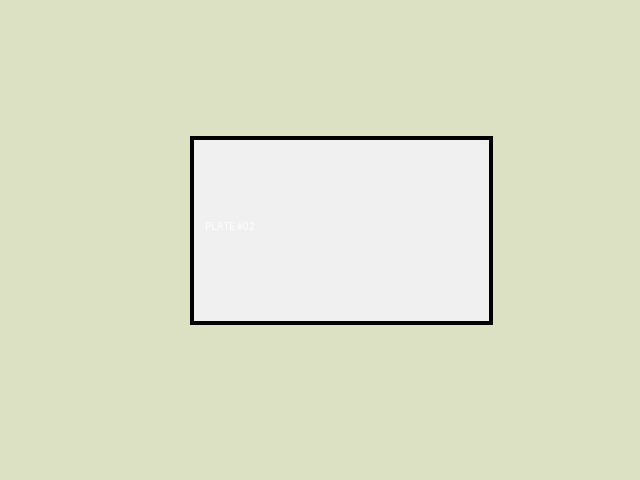plate: (190, 136, 492, 324)
